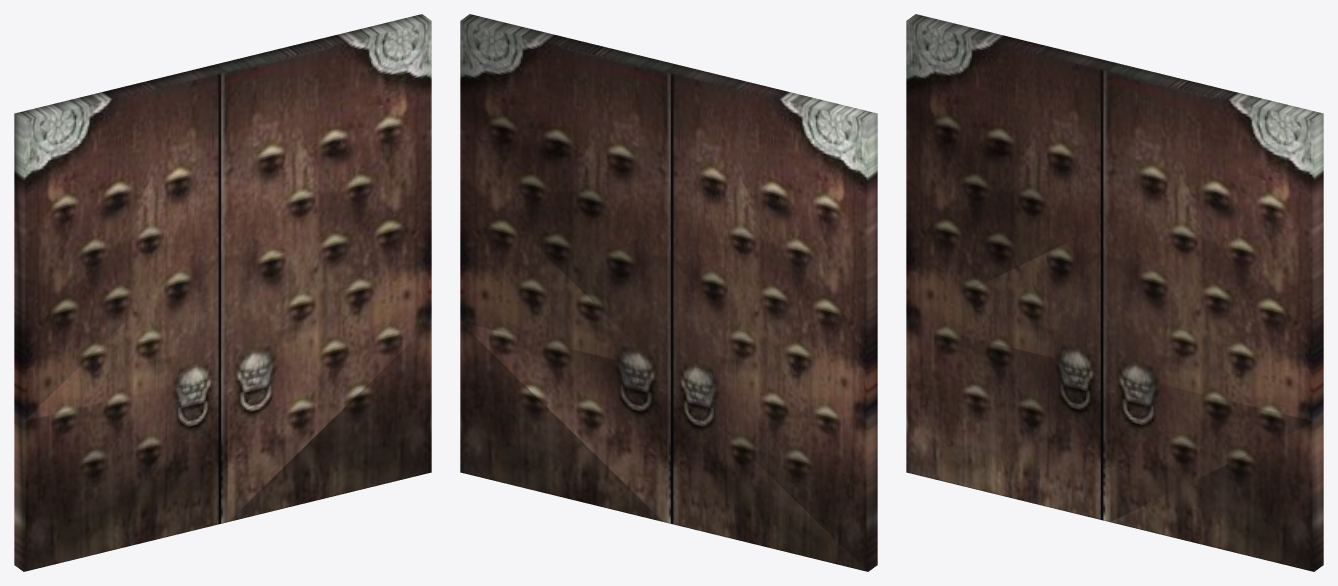
The picture shows the model from 3 angles, left to right: view 1: azimuth 30°, elevation 25°; view 2: azimuth 150°, elevation 25°; view 3: azimuth 330°, elevation 25°; orthographic projection.
Visible parts, largest first — view 1: Pdoor01; view 2: Pdoor01; view 3: Pdoor01.
Part boxes in pixels (bbox=[...]): Pdoor01: bbox=[14, 14, 431, 571]; Pdoor01: bbox=[460, 14, 877, 571]; Pdoor01: bbox=[906, 14, 1323, 571].
Bounding box in the file's own units: 102 × 108 × 4.17.
1 material, 1 textured.
